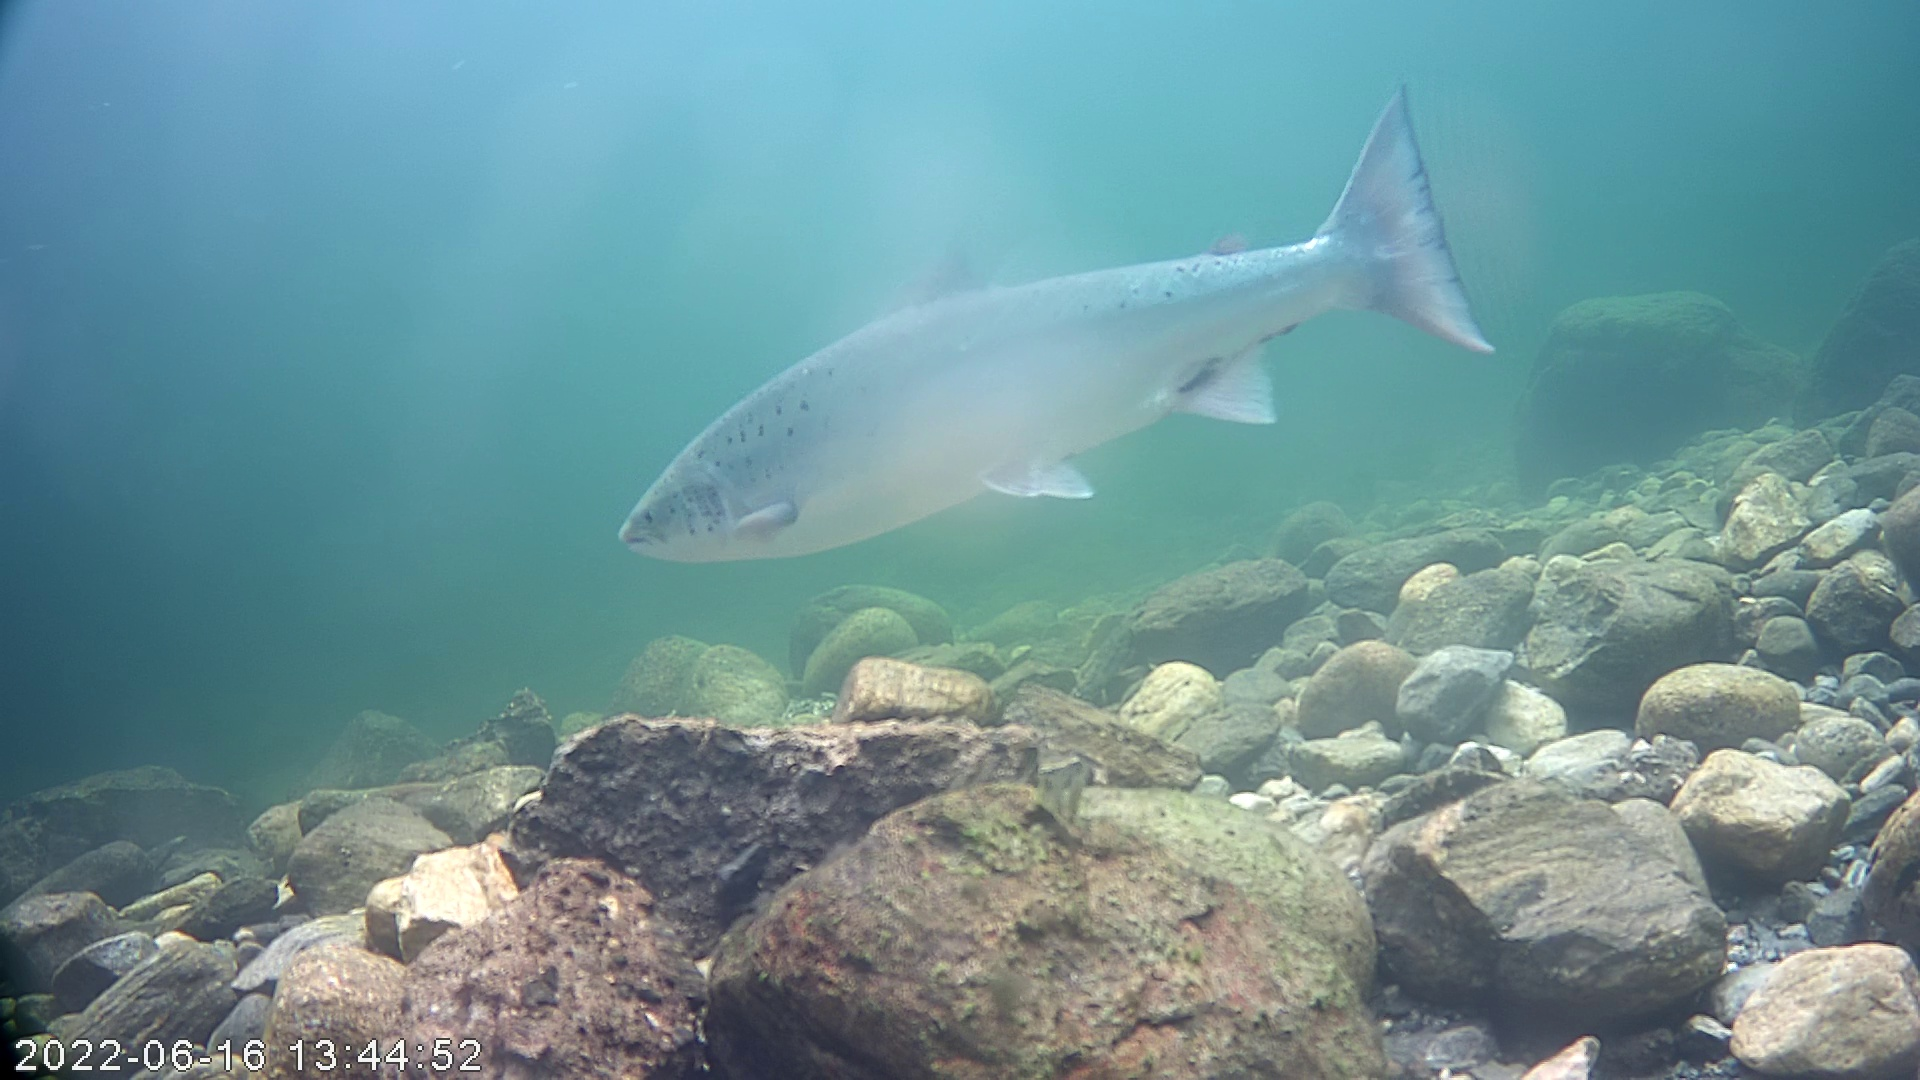salmon: (615, 78, 1502, 567)
